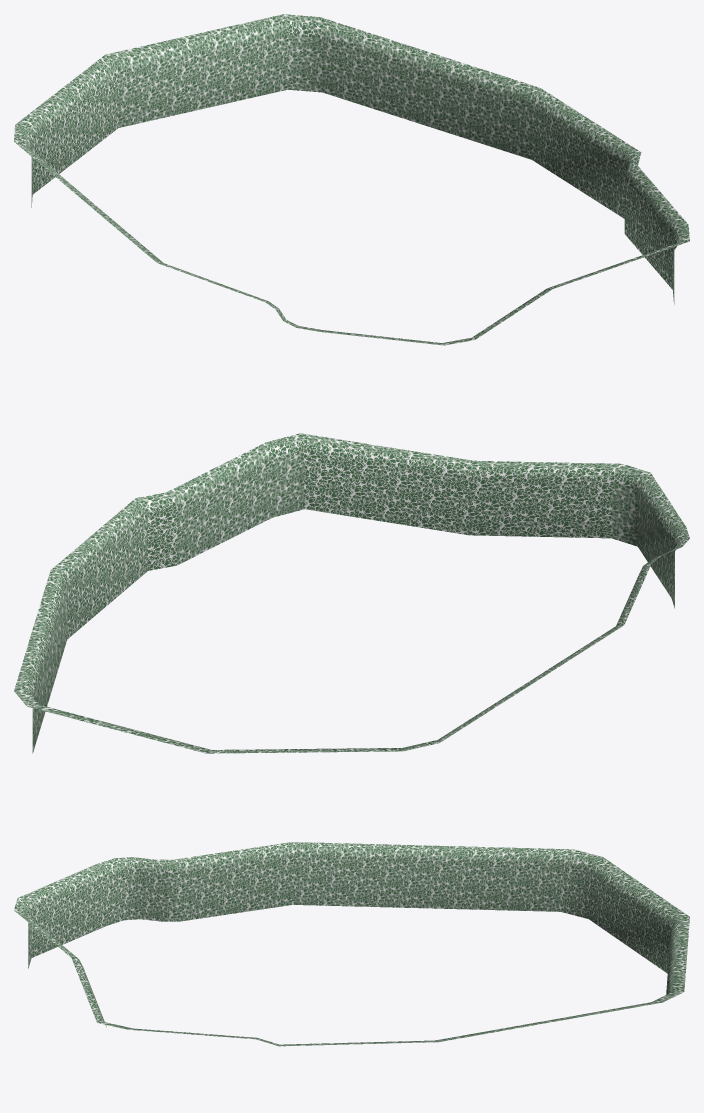
Rendered from waterfall.glb.
3 views of the same model, one above another, from view 1: azimuth 30°, elevation 25°; view 2: azimuth 150°, elevation 25°; view 3: azimuth 270°, elevation 25° (orthographic). The views are drawn at different scales.
Parts seen in each view (by area): view 1: stktemple_waterWhite.png__; view 2: stktemple_waterWhite.png__; view 3: stktemple_waterWhite.png__.
Part boxes in pixels (<box>): stktemple_waterWhite.png__: <box>14,14,689,345</box>; stktemple_waterWhite.png__: <box>14,433,689,753</box>; stktemple_waterWhite.png__: <box>14,842,689,1046</box>.
Bounding box in the file's own units: 375 × 49.72 × 524.
Materials: 1 (1 with a texture image).
